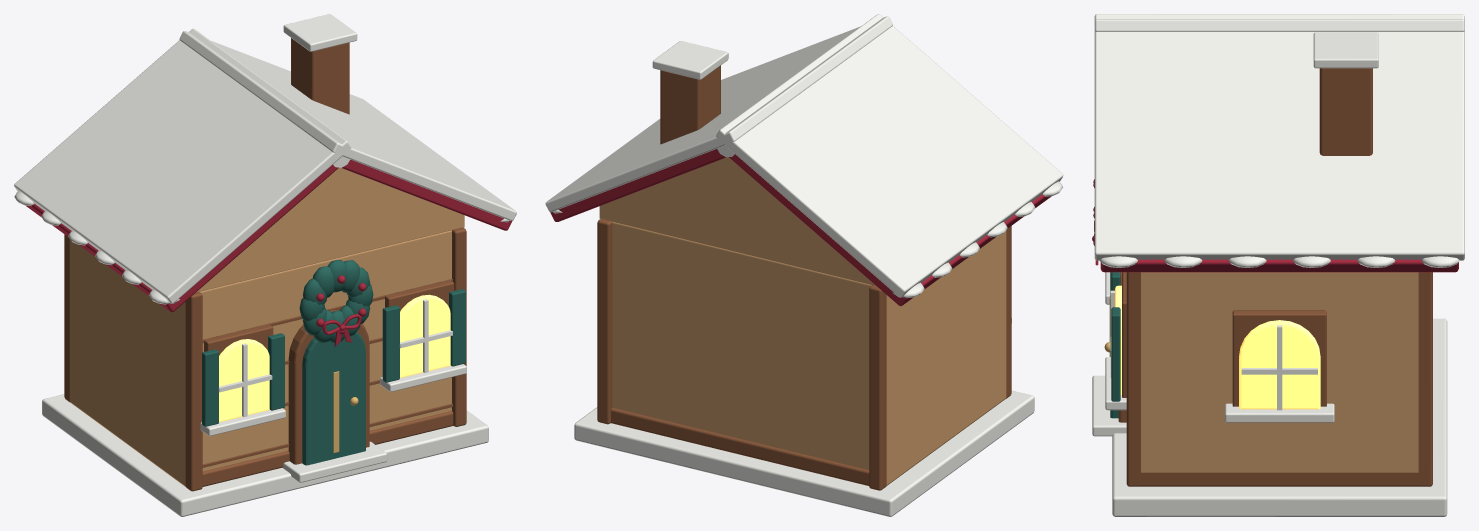
File: chalet_xmas.glb
3 views of the same model, side by side, from view 1: azimuth 30°, elevation 25°; view 2: azimuth 150°, elevation 25°; view 3: azimuth 270°, elevation 25° (orthographic). The views are drawn at different scales.
Visible parts, largest first — view 1: cream, biscuit, oak, pine, light, berry, brass; view 2: biscuit, cream, oak, berry; view 3: cream, biscuit, oak, light, berry, pine.
Part boxes in pixels (<box>): cream: <box>14,14,516,516</box>; biscuit: <box>69,167,464,486</box>; oak: <box>64,38,466,491</box>; pine: <box>202,260,465,465</box>; light: <box>219,294,450,422</box>; berry: <box>25,159,512,346</box>; brass: <box>333,371,358,453</box>; biscuit: <box>599,157,1006,485</box>; cream: <box>545,14,1063,516</box>; oak: <box>597,65,1011,490</box>; berry: <box>550,149,1051,306</box>; cream: <box>1092,14,1464,516</box>; biscuit: <box>1141,272,1418,472</box>; oak: <box>1118,68,1432,486</box>; light: <box>1115,285,1320,409</box>; berry: <box>1092,179,1458,272</box>; pine: <box>1110,272,1120,418</box>.
Size of the model in its own units: 3.29 by 3.12 by 2.45.
